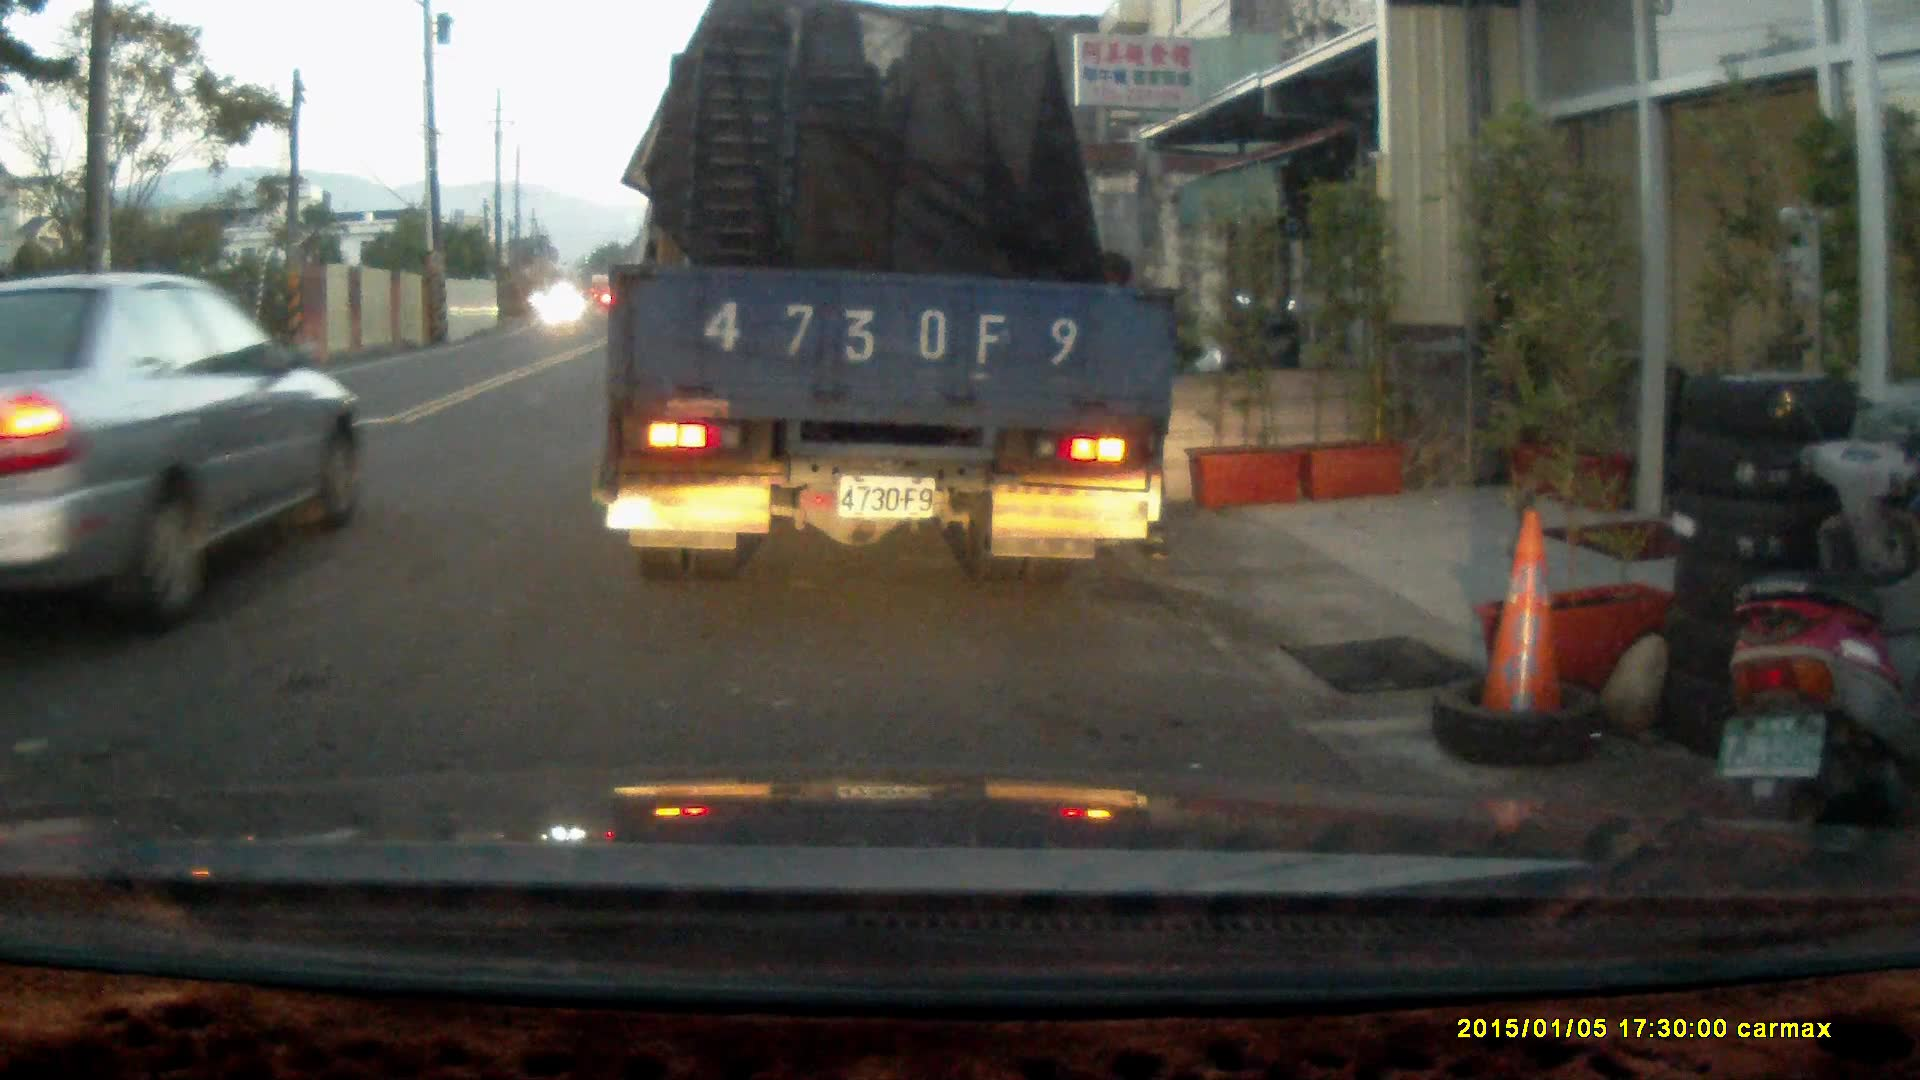vehicle: (605, 22, 1188, 572), (1, 272, 367, 638)
